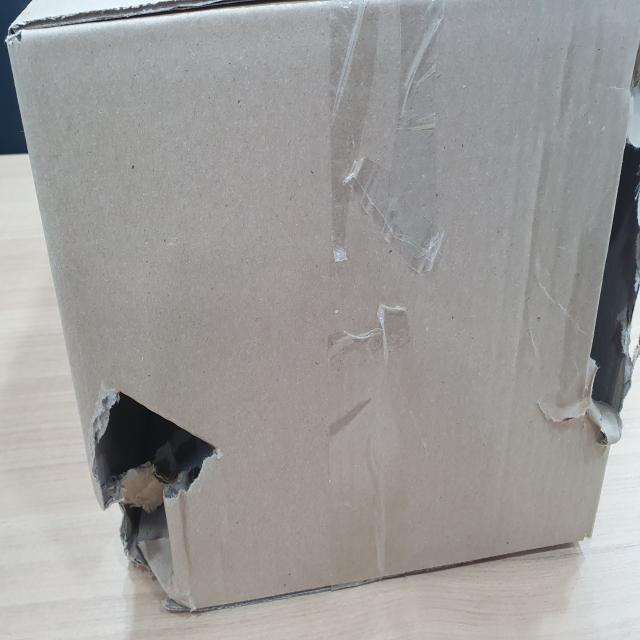hole: (82, 376, 224, 606), (580, 83, 640, 447)
